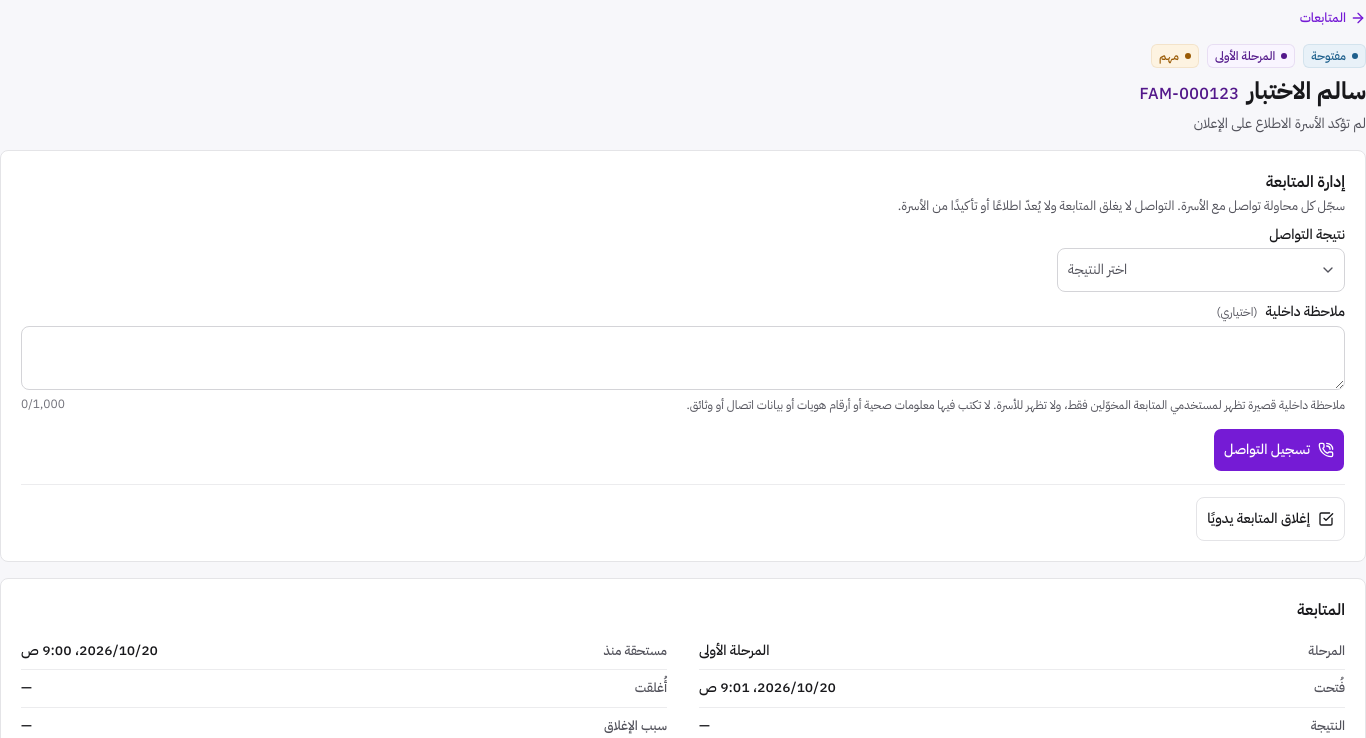
Test: recording a contact › validates the outcome, sends a uuid client_reference and invalidates list, summary, detail and history
Click the button "تسجيل التواصل" at point(1279, 450), box 1213,428 -> 1345,472
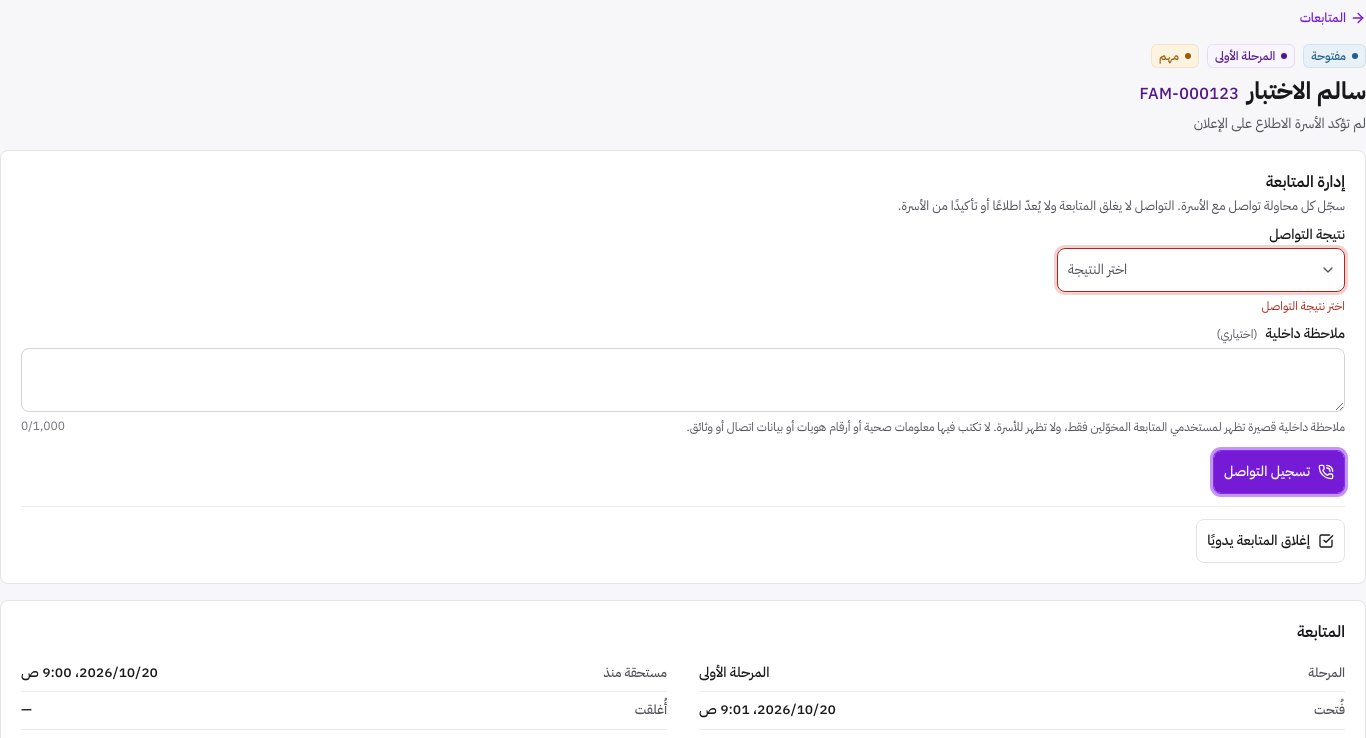
Expected: the text "اختر نتيجة التواصل" is shown, 1262,297 -> 1345,315
Click the dropdown named "نتيجة التواصل" at point(1098, 270), box 1057,248 -> 1345,292
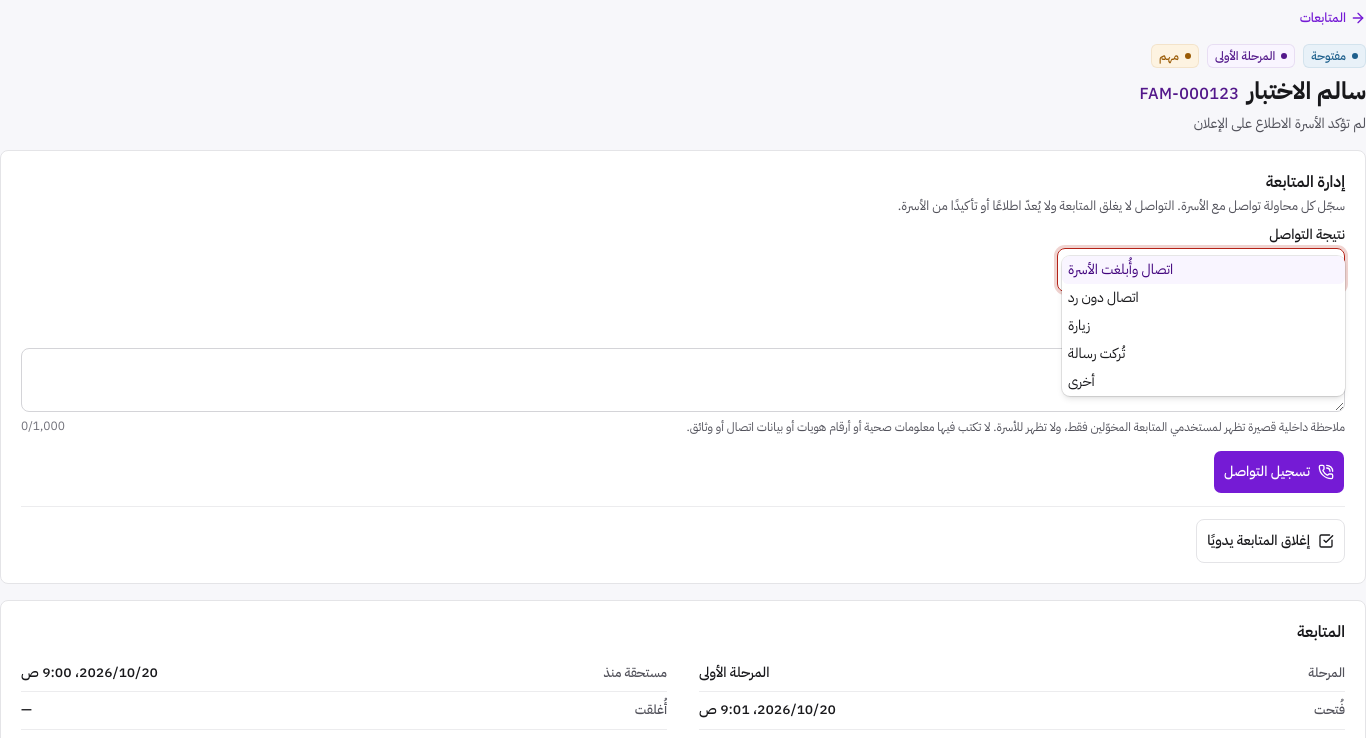
Click the option "زيارة" at point(1079, 326), box 1068,315 -> 1090,336
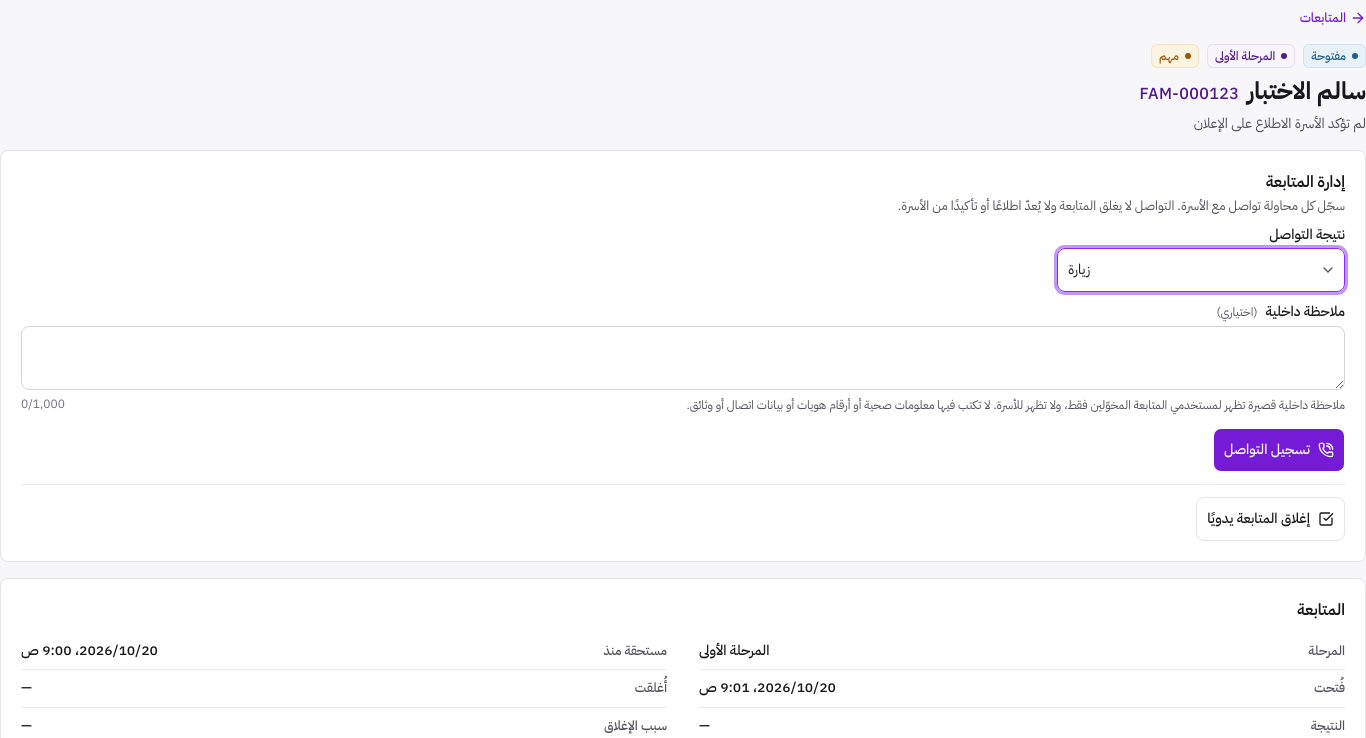
Type "  زرنا البيت  " into the text box labelled "ملاحظة داخلية (اختياري)" at point(683, 358), box 21,326 -> 1345,390
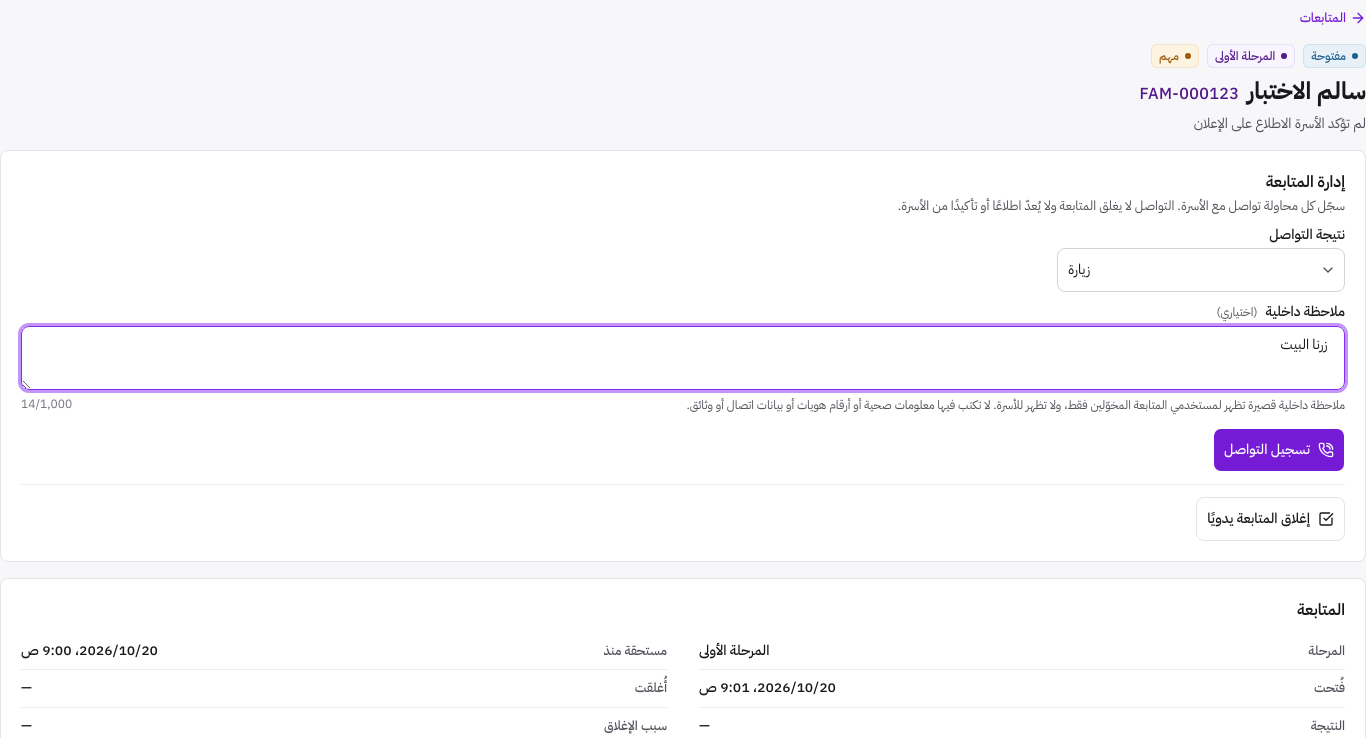
Click the button "تسجيل التواصل" at point(1279, 450), box 1213,428 -> 1345,472
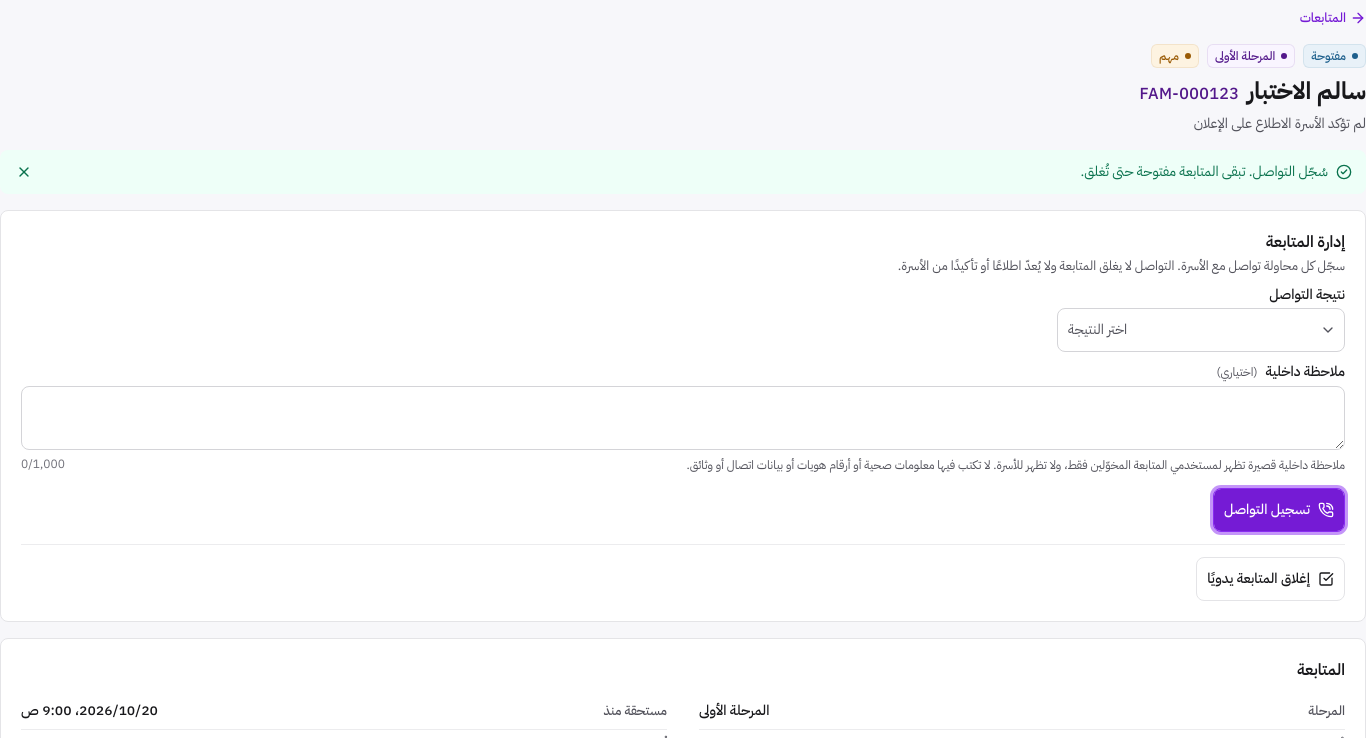
Expected: the text "سُجّل التواصل. تبقى المتابعة مفتوحة حتى تُغلق." is shown, 1080,161 -> 1328,182
Expected: the text box labelled "ملاحظة داخلية (اختياري)" is empty, 21,386 -> 1345,450
